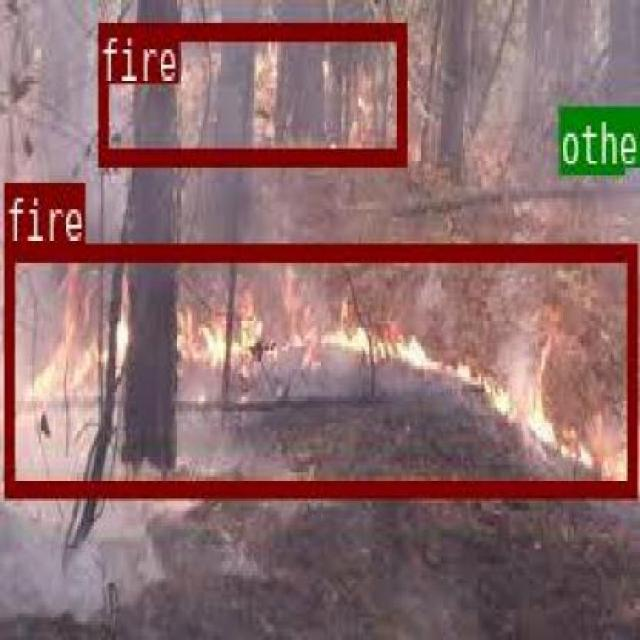fire: (2, 241, 635, 493), (97, 22, 405, 162)
